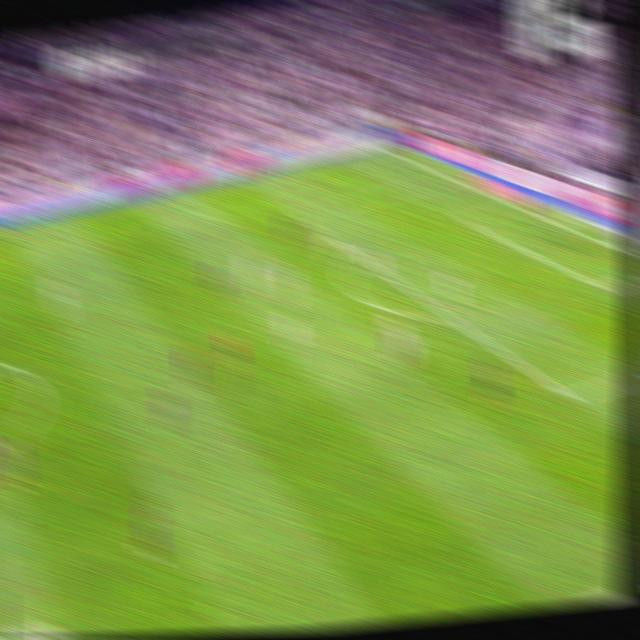bigarea_bottom_inner: (558, 383, 582, 412)
bigarea_top_inner: (291, 206, 309, 222)
bigarea_top_outter: (439, 168, 459, 184)
bottom_arc_area_intersection: (440, 306, 461, 326)
corner: (376, 142, 395, 155)
smallarea_bottom_inner: (594, 276, 616, 298)
smallarea_top_inner: (457, 212, 474, 227)
top_arc_area_intersection: (349, 245, 368, 262)
